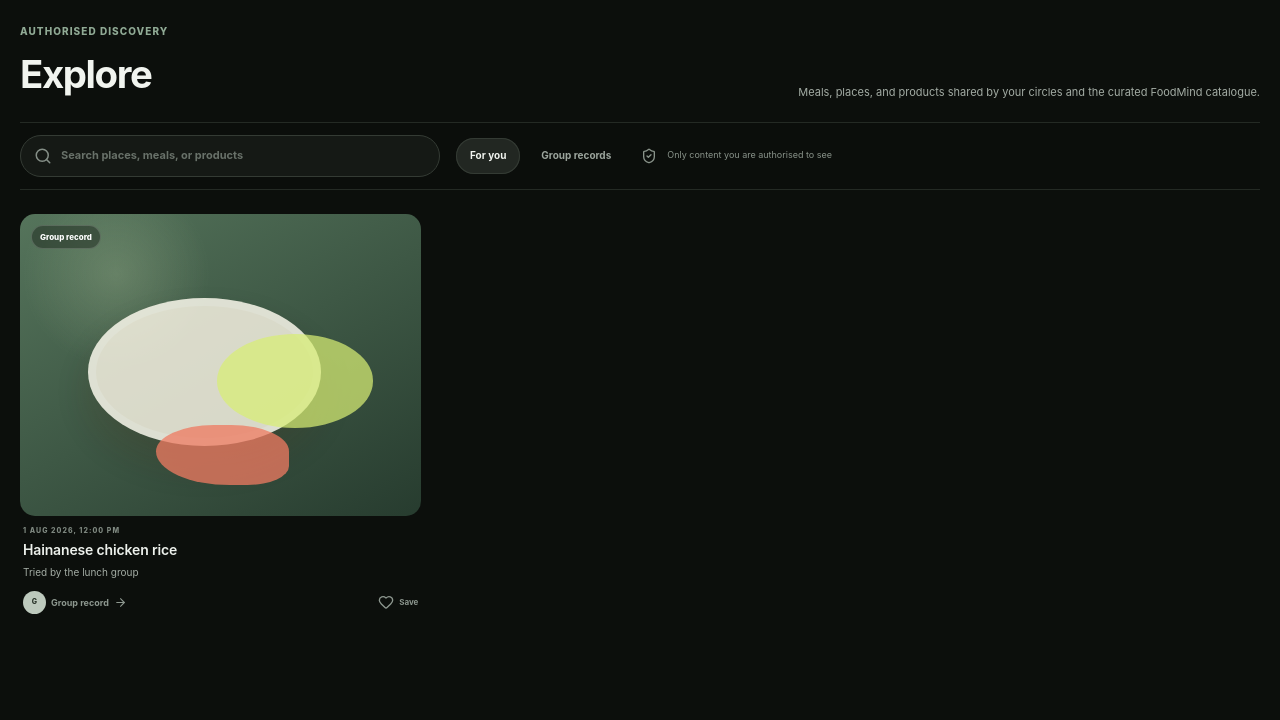
Explore discovery preview › opens an accessible preview without losing the full detail destination
The image size is (1280, 720).
Click the button with aria-label "Preview Hainanese chicken rice".
click(221, 365)  # box [20,214,421,516]
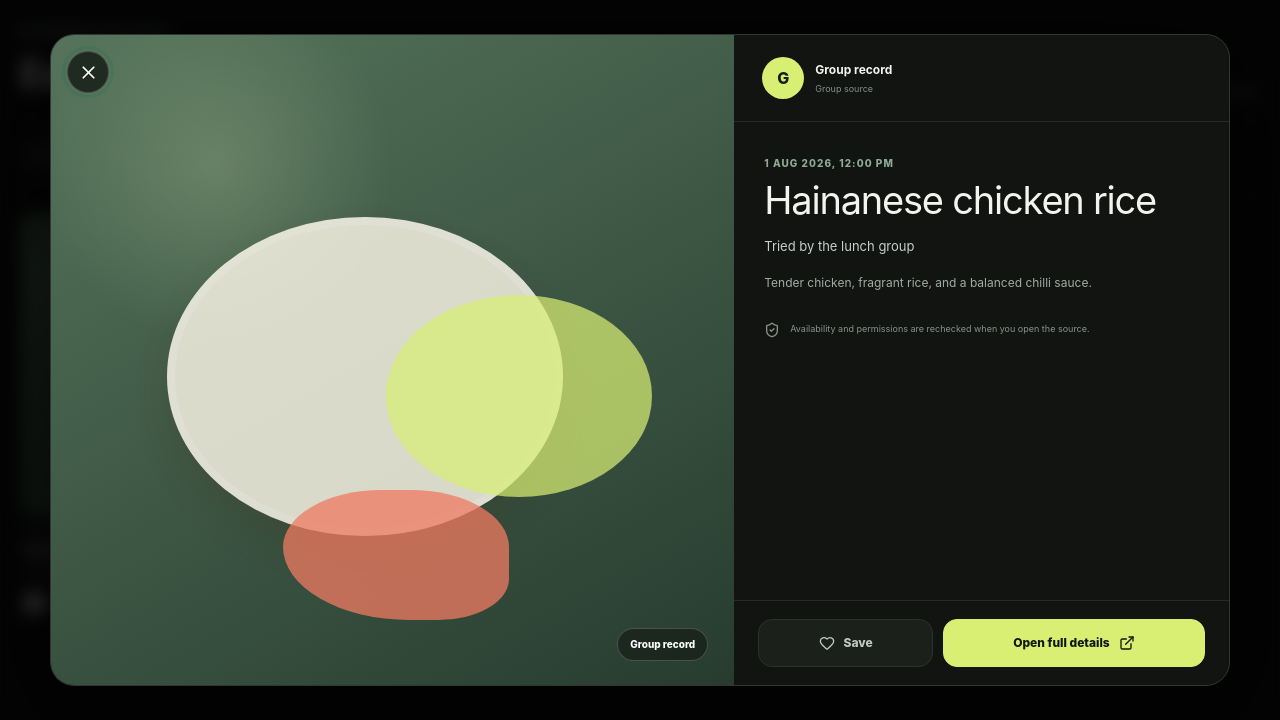
expect the dialog named "Hainanese chicken rice" is shown: met
Press Escape
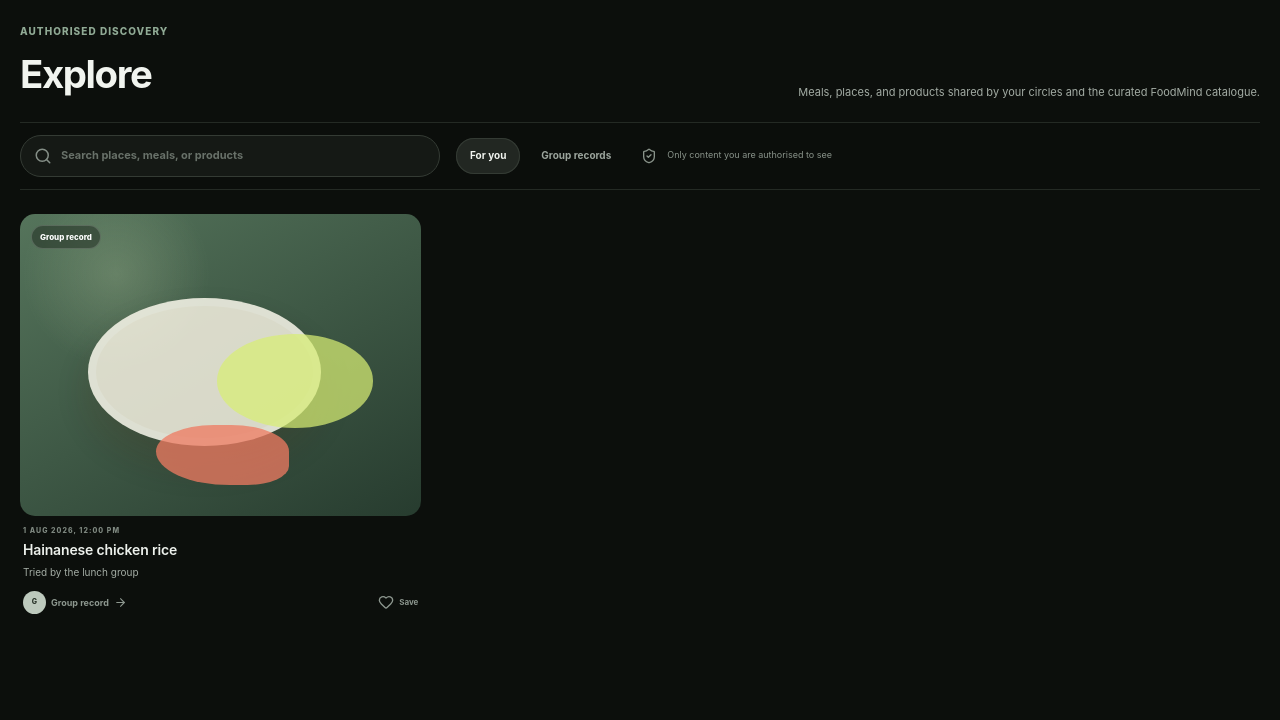
expect the dialog is gone: met
